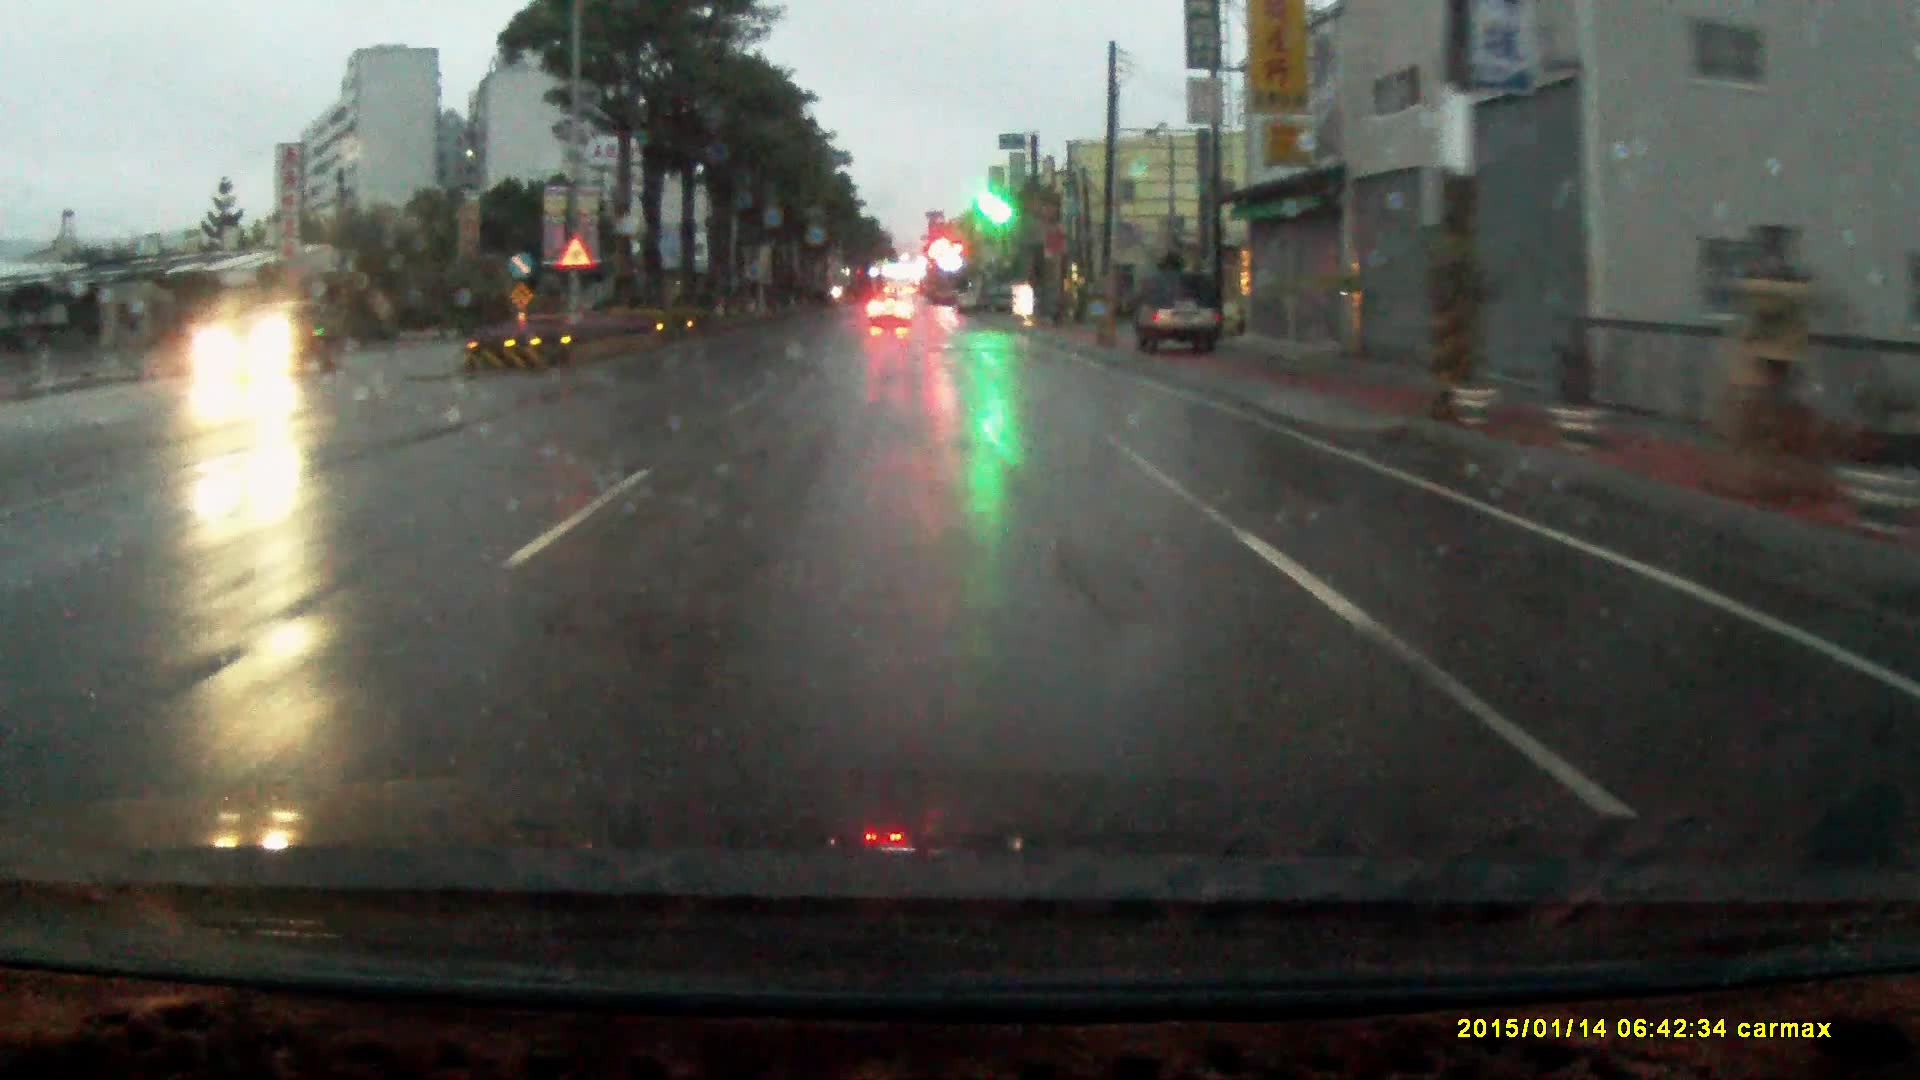vehicle: (186, 301, 347, 384), (1134, 274, 1228, 361), (869, 301, 913, 338)
